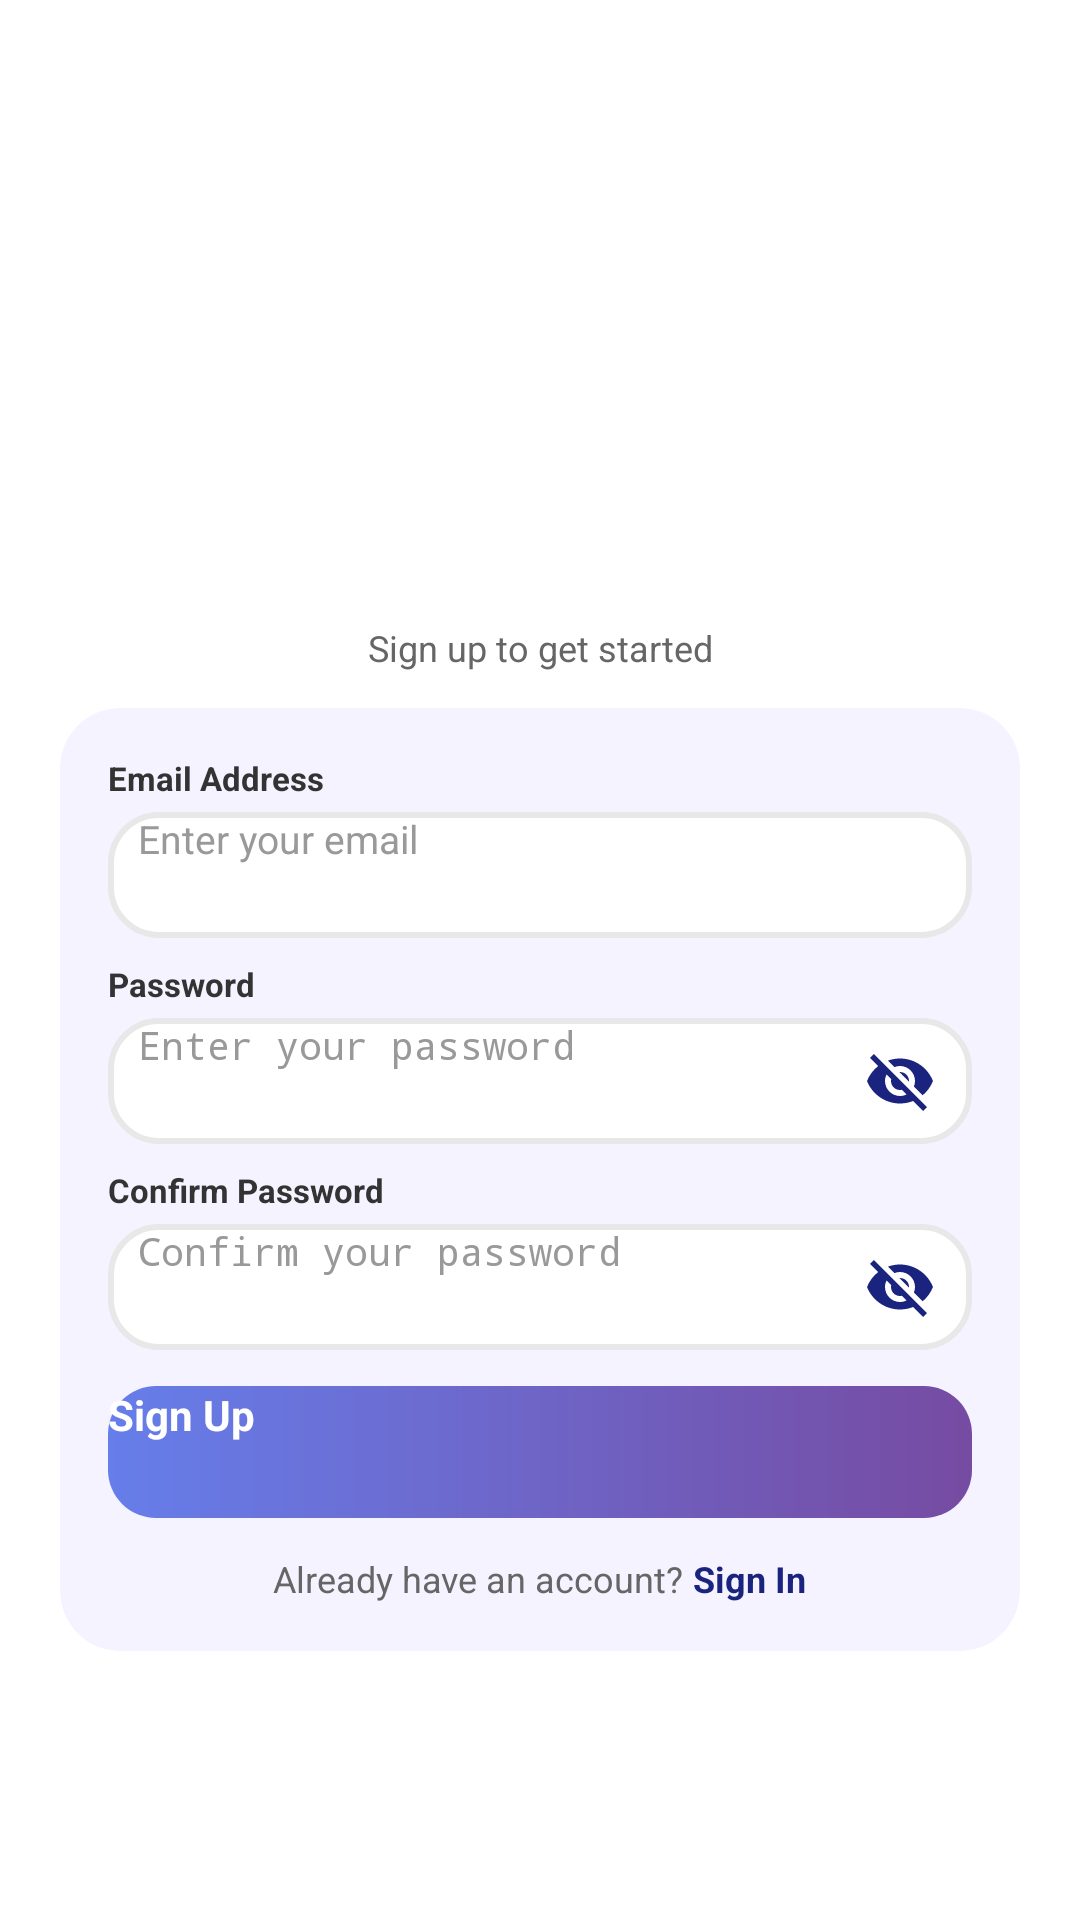

Screen size 1080 × 1920. Icon name, then its center in pixels as [x,y]:
Toggle confirm password visibility: [900,1288]
Toggle password visibility: [900,1082]
